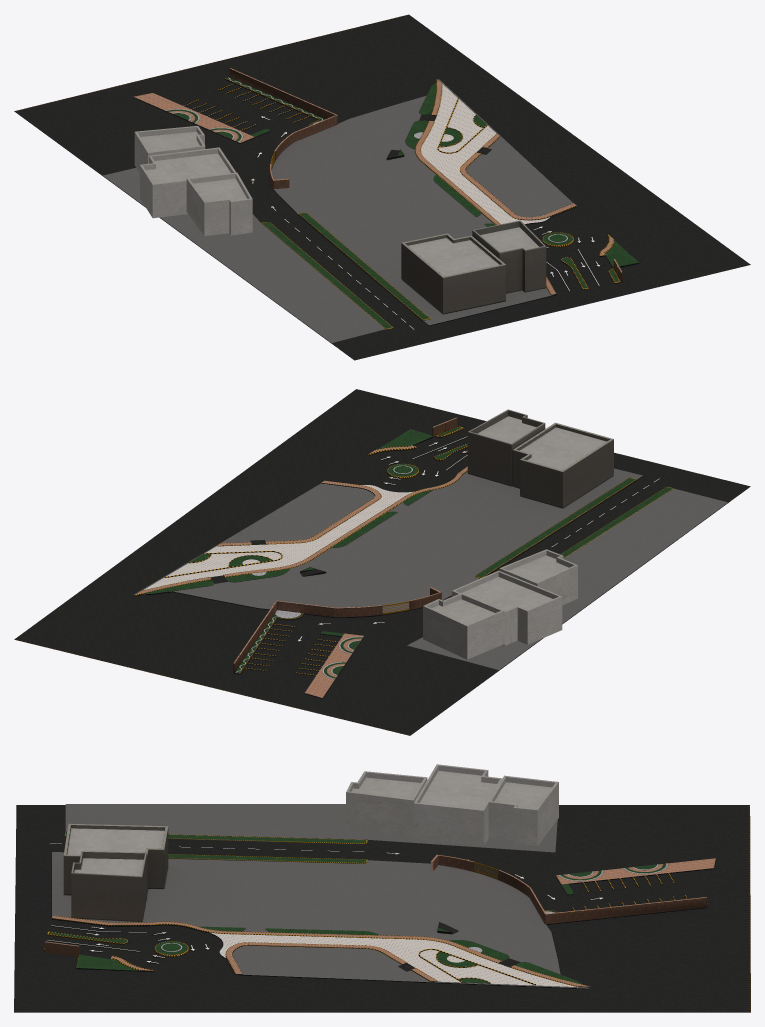
Rendered from Delta_9_Exterior-2.glb.
3 views of the same model, one above another, from view 1: azimuth 30°, elevation 25°; view 2: azimuth 150°, elevation 25°; view 3: azimuth 270°, elevation 25° (orthographic). The views are drawn at different scales.
Visible parts, largest first — view 1: Road, Base, SB_Roof, SB_2, Grass, Entrance path, Pavment, F_Path, wall; view 2: Road, Base, SB_Roof, SB_2, Grass, Entrance path, Pavment, F_Path, wall, Stone; view 3: Road, Base, SB_Roof, SB_2, Entrance path, Grass, Pavment, F_Path, wall, Road Arrow.
Boxes of the visible parts, x1,y1,x2,y2 form: Road: (14,14,750,360); Base: (103,79,573,342); SB_Roof: (134,126,538,276); SB_2: (401,220,546,313); Grass: (166,77,638,328); Entrance path: (421,84,549,224); Pavment: (183,78,620,329); F_Path: (133,79,613,294); wall: (229,68,622,281); Road: (14,389,750,735); Base: (133,468,727,669); SB_Roof: (423,416,606,659); SB_2: (467,409,613,507); Grass: (145,427,672,678); Entrance path: (143,485,413,590); Pavment: (135,426,673,675); F_Path: (136,445,467,697); wall: (233,417,457,672); Stone: (236,465,412,679); Road: (14,805,750,1012); Base: (52,804,589,988); SB_Roof: (67,764,558,875); SB_2: (63,823,168,921); Entrance path: (209,932,577,987); Grass: (48,832,707,984); Pavment: (44,831,707,986); F_Path: (52,858,715,986); wall: (44,854,706,956); Road Arrow: (47,843,602,963).
Bounding box in the file's own units: 14.25 × 1.59 × 21.
Materials: 1 (1 with a texture image).
